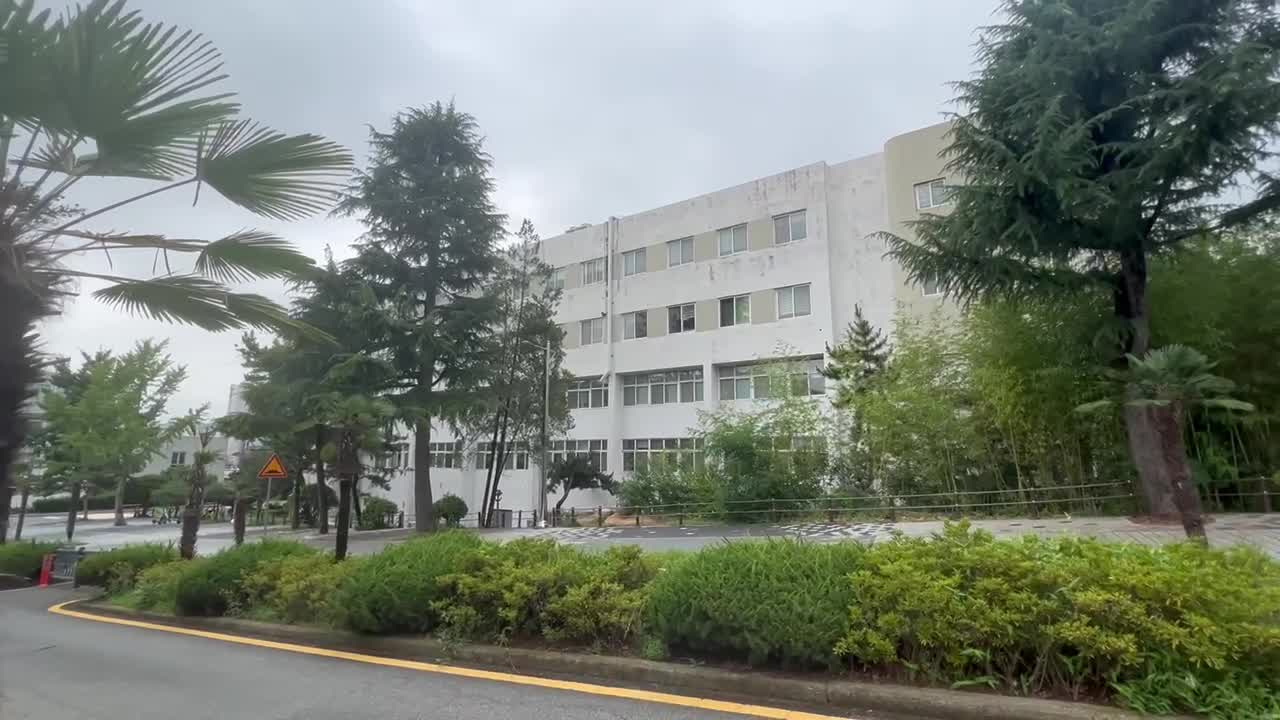low: (563, 157, 826, 403)
